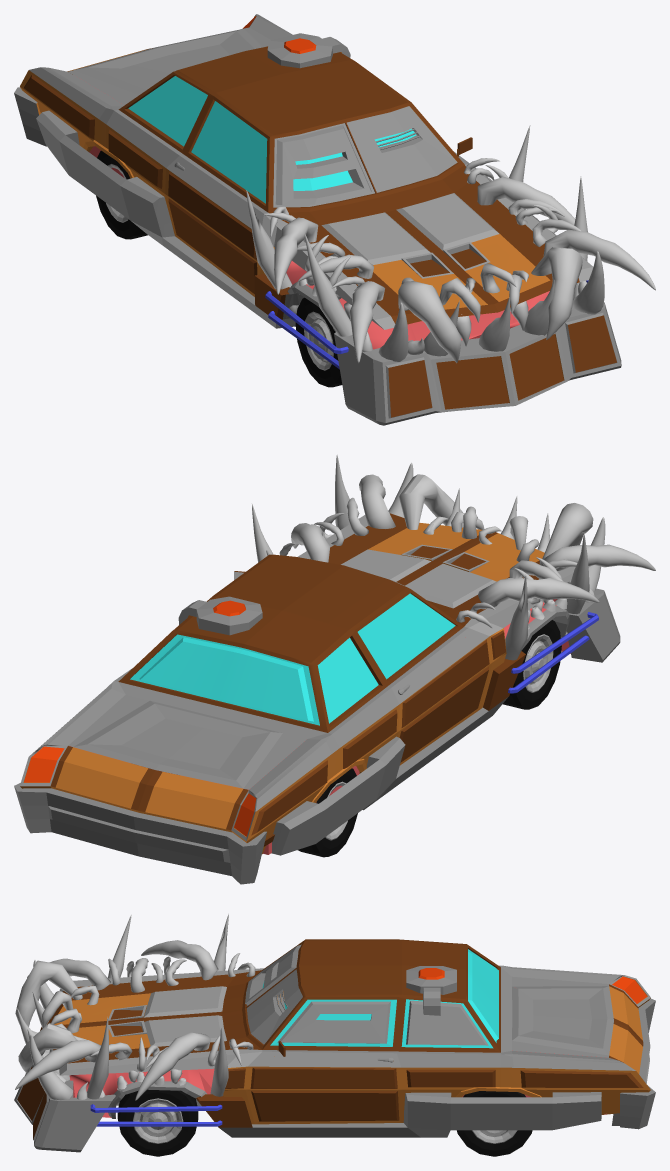
The model's file is monstercarv4.fbx.
3 views of the same model, one above another, from view 1: azimuth 30°, elevation 25°; view 2: azimuth 150°, elevation 25°; view 3: azimuth 270°, elevation 25° (orthographic). The views are drawn at different scales.
Parts seen in each view (by area): view 1: monster-car, alt_agız, ust_agız, kaput, dıs-25, dıs-16, on_tekerler, dıs-26, dıs-33, dıs-3, dıs-14, arka_tekerler (+3 smaller); view 2: monster-car, ust_agız, kaput, alt_agız, on_tekerler, dıs-3, dıs-25, dıs-14, dıs-16, arka_tekerler, dıs-26, dıs-33 (+1 smaller); view 3: monster-car, alt_agız, ust_agız, kaput, on_tekerler, arka_tekerler, dıs-16, dıs-33, dıs-26, dıs-3, dıs-25, dıs-14 (+3 smaller).
Boxes of the visible parts, left/top/right/bottom form: monster-car: left=14, top=14, right=475, bottom=328; alt_agız: left=246, top=125, right=621, bottom=425; ust_agız: left=262, top=164, right=593, bottom=329; kaput: left=68, top=27, right=270, bottom=104; dıs-25: left=531, top=247, right=582, bottom=339; dıs-16: left=398, top=281, right=461, bottom=362; on_tekerler: left=295, top=297, right=342, bottom=387; dıs-26: left=543, top=229, right=655, bottom=290; dıs-33: left=477, top=177, right=575, bottom=224; dıs-3: left=274, top=217, right=318, bottom=294; dıs-14: left=349, top=281, right=384, bottom=363; arka_tekerler: left=96, top=150, right=147, bottom=239; monster-car: left=14, top=554, right=508, bottom=884; ust_agız: left=298, top=474, right=590, bottom=637; kaput: left=68, top=694, right=306, bottom=789; alt_agız: left=252, top=454, right=620, bottom=710; on_tekerler: left=503, top=620, right=561, bottom=709; dıs-3: left=478, top=578, right=599, bottom=607; dıs-25: left=399, top=474, right=463, bottom=529; dıs-14: left=539, top=544, right=655, bottom=570; dıs-16: left=542, top=503, right=593, bottom=559; arka_tekerler: left=297, top=768, right=357, bottom=857; dıs-26: left=359, top=474, right=395, bottom=528; dıs-33: left=291, top=523, right=330, bottom=562; monster-car: left=199, top=939, right=655, bottom=1137; alt_agız: left=14, top=913, right=252, bottom=1152; ust_agız: left=47, top=968, right=274, bottom=1075; kaput: left=512, top=976, right=613, bottom=1057; on_tekerler: left=117, top=1089, right=198, bottom=1156; arka_tekerler: left=457, top=1091, right=532, bottom=1156; dıs-16: left=15, top=960, right=82, bottom=1026; dıs-33: left=135, top=1032, right=210, bottom=1100; dıs-26: left=15, top=1040, right=101, bottom=1089; dıs-3: left=141, top=940, right=218, bottom=980; dıs-25: left=18, top=1023, right=77, bottom=1073; dıs-14: left=27, top=958, right=110, bottom=990.
Bounding box in the file's own units: 244 × 139 × 526.
